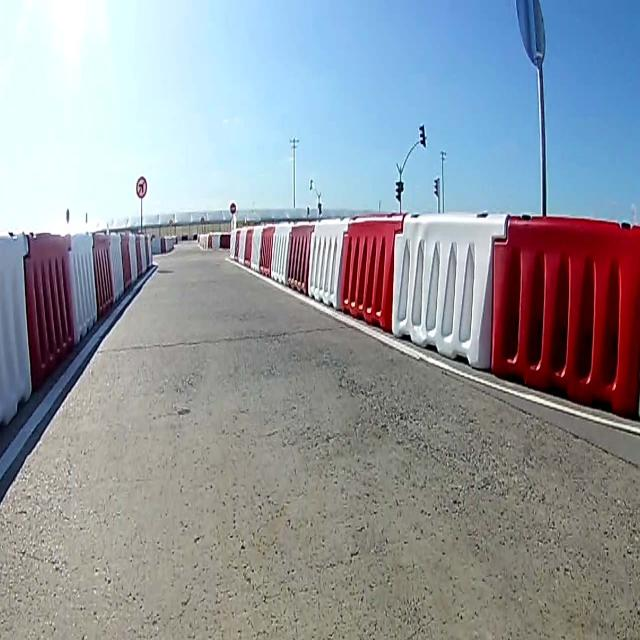soladonulmez: (136, 174, 148, 198)
